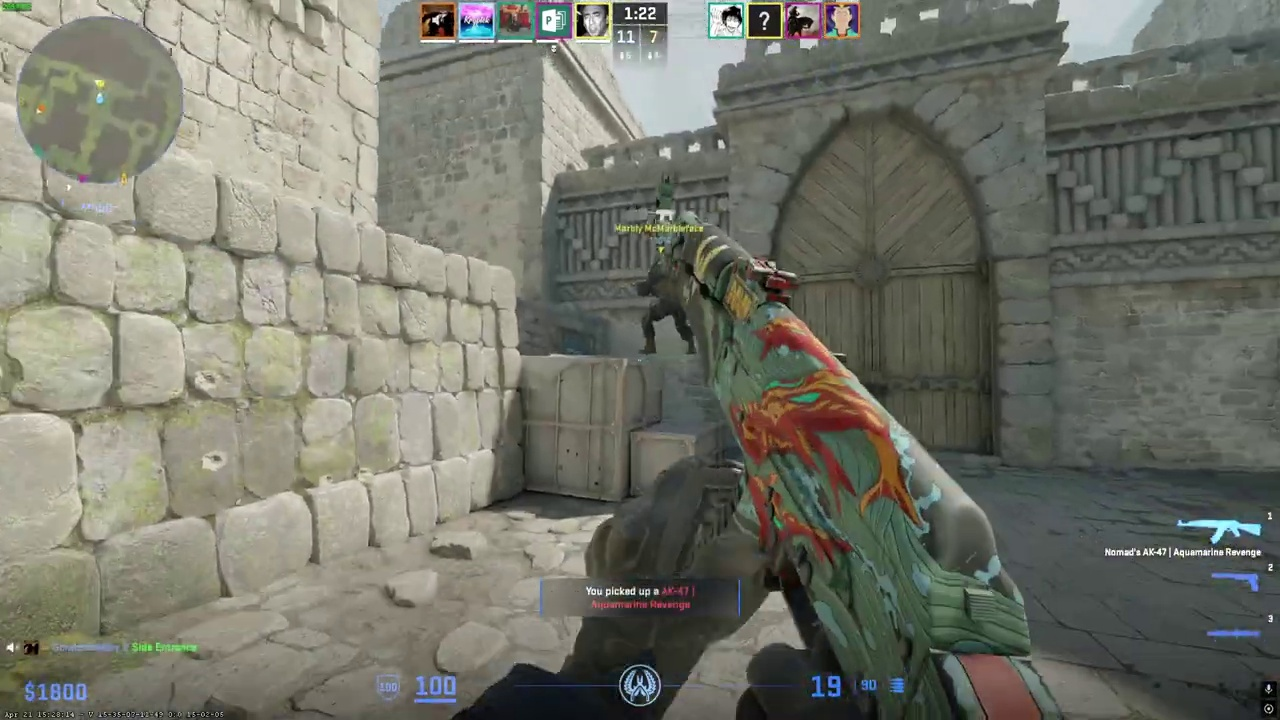CT: (640, 255, 696, 355)
